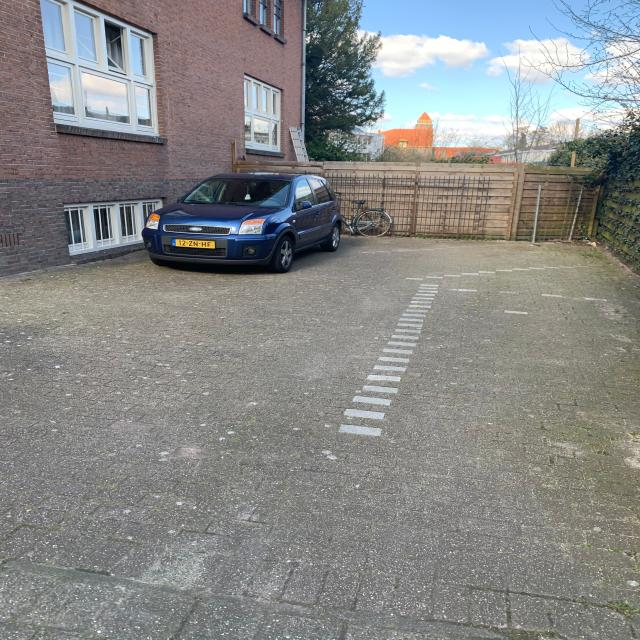plate: (171, 237, 216, 249)
